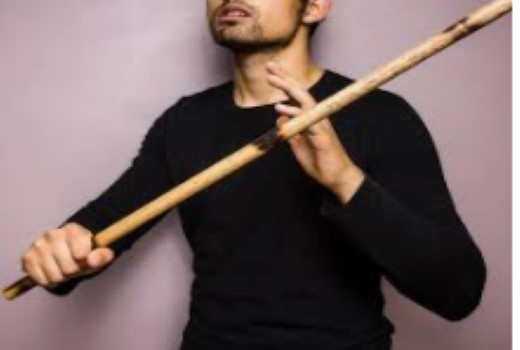baston_e: (97, 4, 470, 271)
baston_v: (0, 263, 37, 315), (492, 0, 518, 28)
